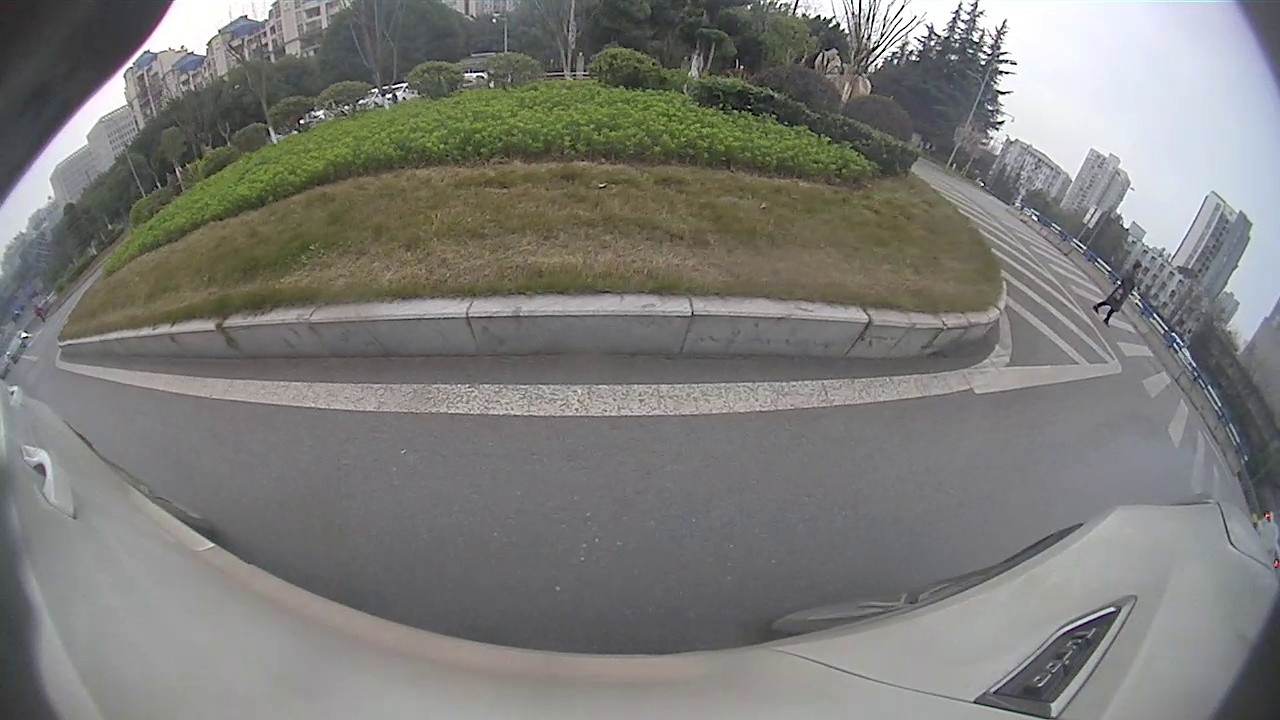person: (1103, 253, 1143, 333)
